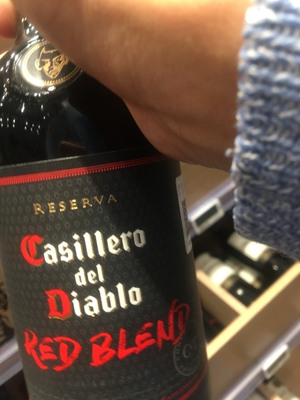casillero del diablo red blend: (4, 42, 214, 400)
